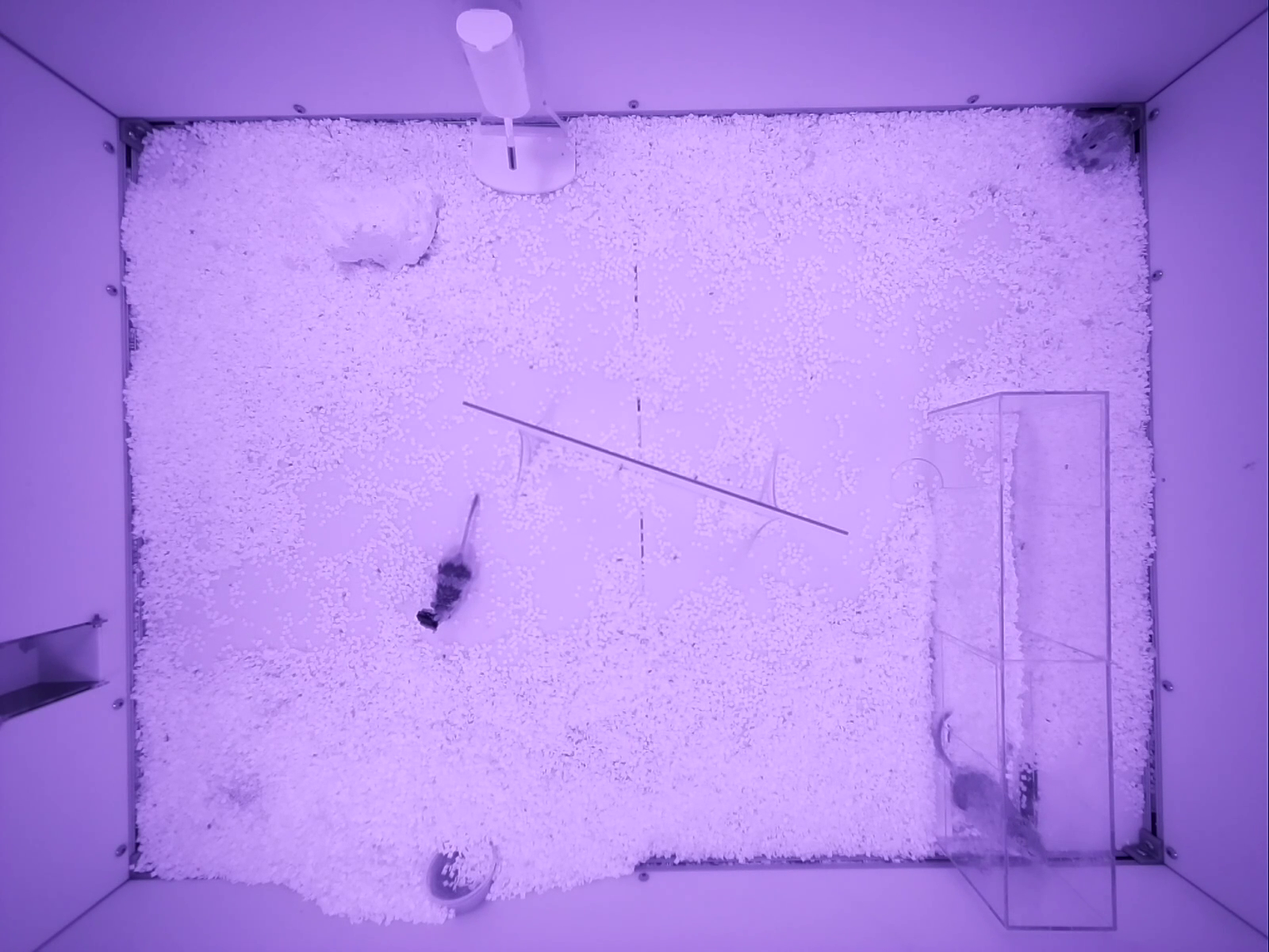adult_back: (933, 712, 1045, 859), (416, 493, 478, 630), (1064, 111, 1133, 171)
